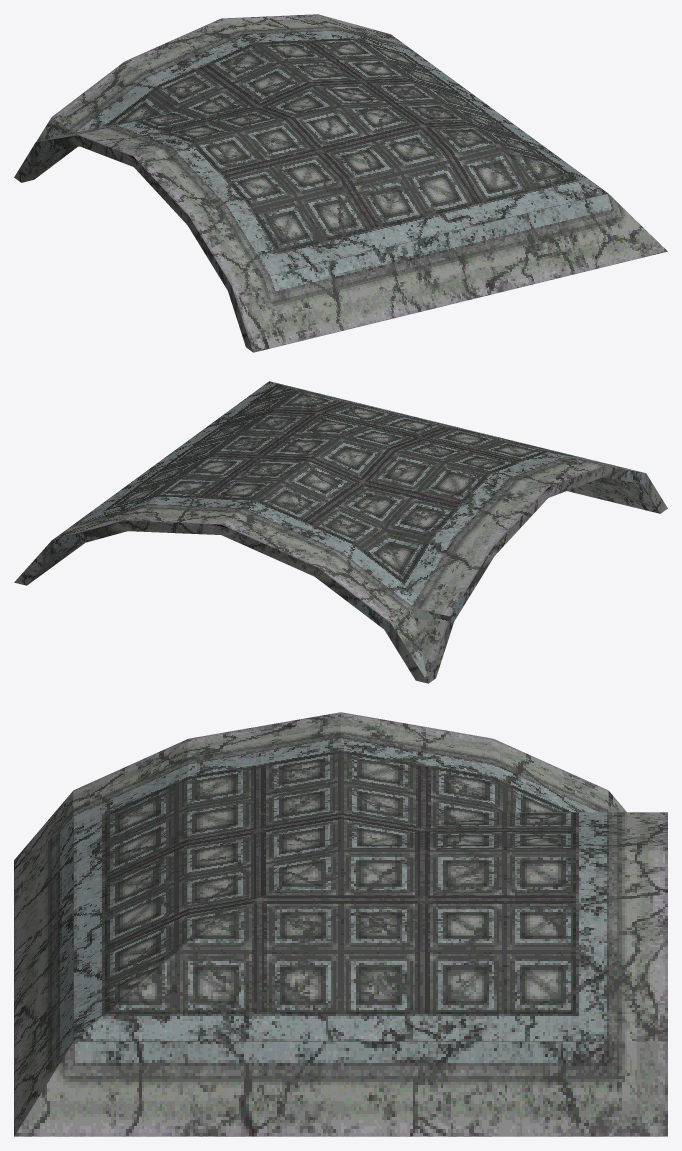
Rendered from roof_set2_03.gltf.
3 renders of one model, top to bottom at view 1: azimuth 30°, elevation 25°; view 2: azimuth 150°, elevation 25°; view 3: azimuth 270°, elevation 25°, orthographic. The views are drawn at different scales.
Visible parts, largest first — view 1: roof_set2_03; view 2: roof_set2_03; view 3: roof_set2_03.
Boxes of the visible parts, <box> form: roof_set2_03: <box>14,14,667,352</box>; roof_set2_03: <box>14,381,667,683</box>; roof_set2_03: <box>14,712,667,1136</box>.
Size of the model in its own units: 4 by 1 by 4.
1 material, 1 textured.
